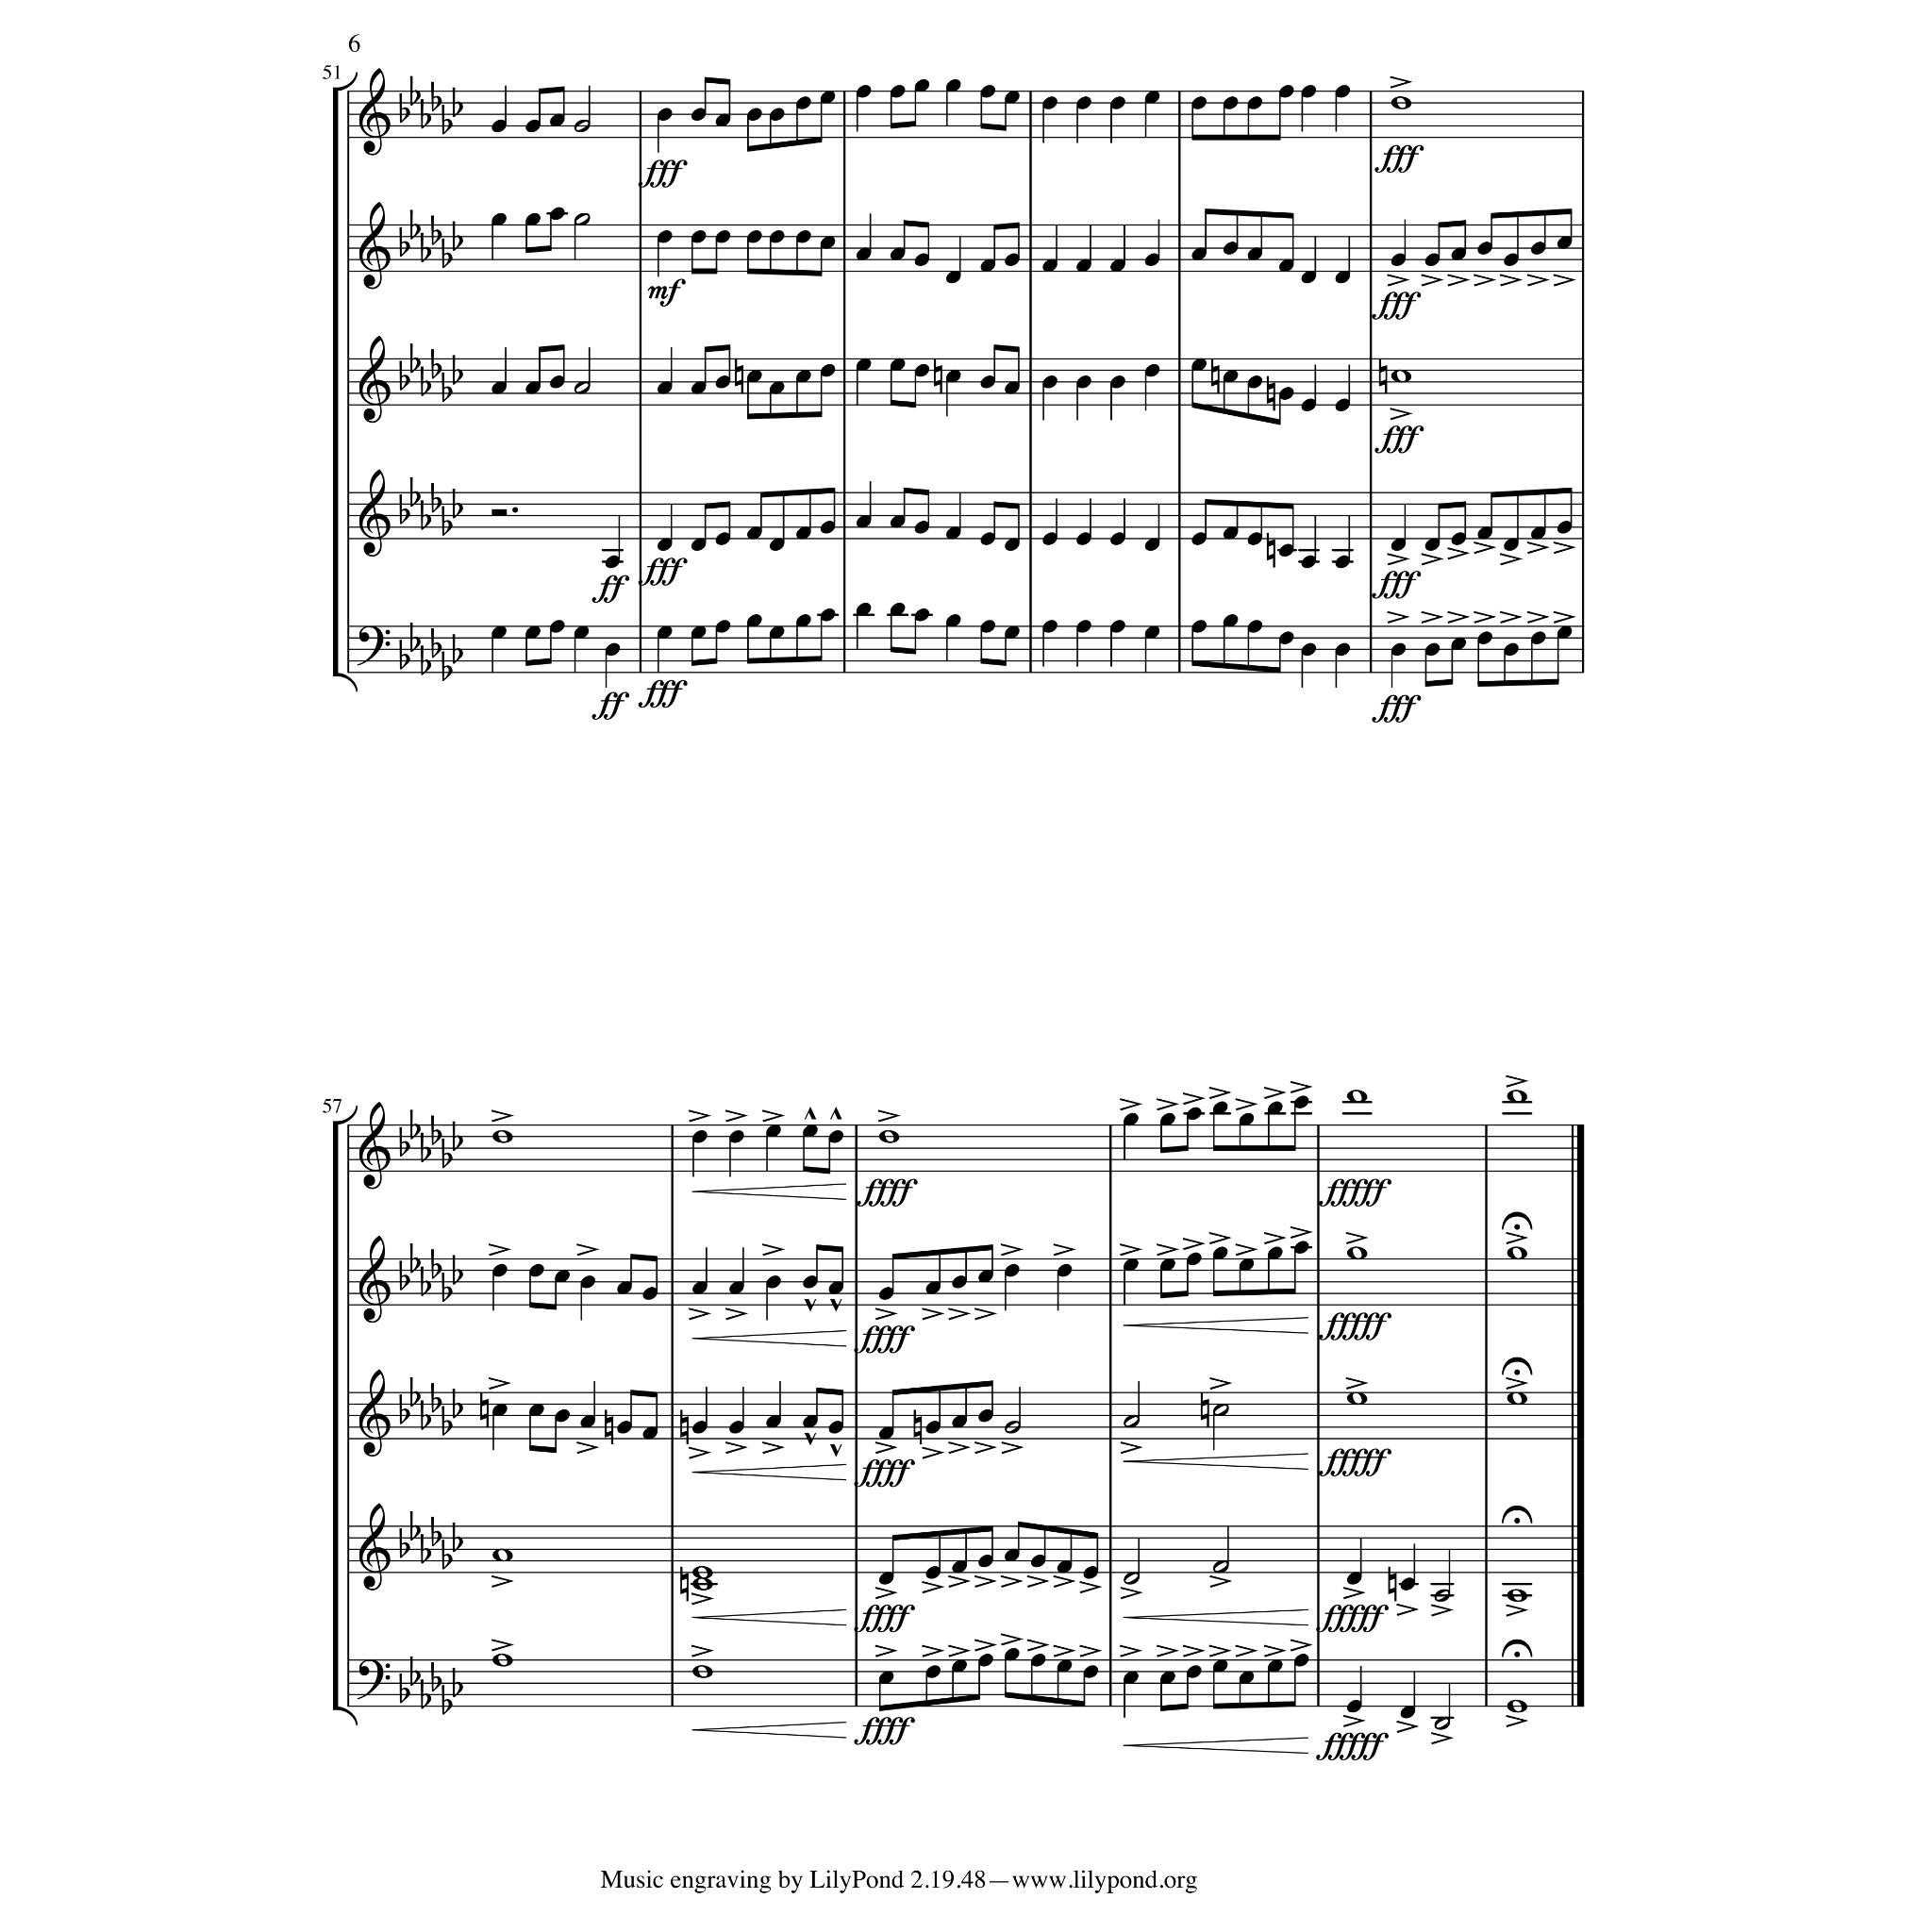fClef: (357, 626, 391, 667), (357, 1660, 391, 1700)
gClef: (359, 67, 391, 157), (359, 1502, 391, 1592), (359, 469, 391, 557), (359, 334, 391, 423), (359, 202, 391, 290), (359, 1100, 391, 1189), (359, 1235, 391, 1323), (359, 1369, 391, 1458)
noteheadBlack: (745, 614, 763, 628), (745, 527, 763, 541), (745, 230, 763, 244), (745, 108, 763, 122), (616, 1281, 633, 1295), (1223, 614, 1238, 628), (1223, 527, 1238, 541), (1223, 242, 1238, 257), (1300, 556, 1316, 570), (1300, 271, 1316, 285), (1277, 632, 1293, 646), (1247, 375, 1263, 389), (1247, 248, 1263, 262), (1076, 375, 1092, 389), (1042, 375, 1058, 389), (1109, 375, 1125, 389), (1191, 248, 1207, 262), (1145, 538, 1161, 552), (1145, 364, 1161, 379), (1145, 253, 1161, 267), (1145, 90, 1161, 104), (1530, 632, 1546, 646), (1530, 527, 1546, 541), (1530, 242, 1546, 257), (1557, 520, 1573, 534), (1557, 235, 1573, 249), (1504, 253, 1520, 267), (1477, 632, 1493, 646), (1504, 538, 1520, 552), (1391, 253, 1407, 267), (1391, 538, 1407, 552), (1334, 271, 1350, 285), (1334, 556, 1350, 570), (1451, 637, 1467, 651), (1451, 248, 1467, 262), (1477, 527, 1493, 541), (1477, 242, 1493, 257), (1424, 538, 1440, 552), (1424, 253, 1440, 267), (690, 380, 706, 395), (690, 230, 706, 244), (690, 108, 706, 122), (690, 538, 706, 552), (656, 538, 672, 552), (656, 380, 672, 395), (656, 230, 672, 244), (656, 108, 672, 122), (768, 538, 784, 552), (768, 380, 784, 395), (768, 230, 784, 244), (768, 108, 784, 122), (715, 230, 731, 244), (715, 375, 731, 389), (492, 380, 508, 395), (525, 380, 541, 395), (605, 556, 621, 570), (550, 375, 566, 389), (550, 207, 566, 221), (913, 520, 929, 534), (913, 364, 929, 379), (913, 253, 929, 267), (913, 80, 929, 94), (1005, 538, 1021, 552), (1005, 380, 1021, 395), (890, 602, 906, 616), (890, 515, 906, 529), (890, 248, 906, 262), (980, 375, 996, 389), (947, 614, 962, 628), (947, 527, 962, 541), (947, 271, 962, 285), (947, 80, 962, 94), (1005, 90, 1021, 104), (1005, 253, 1021, 267), (819, 520, 835, 534), (819, 364, 835, 379), (819, 235, 835, 249), (819, 90, 835, 104), (796, 614, 812, 628), (796, 527, 812, 541), (796, 230, 812, 244), (855, 602, 870, 616), (855, 515, 870, 529), (855, 248, 870, 262), (1185, 1253, 1201, 1267), (1185, 1665, 1201, 1679), (1212, 1100, 1228, 1115), (1212, 1246, 1228, 1260), (1267, 1100, 1283, 1115), (1267, 1246, 1283, 1260), (1030, 1652, 1046, 1667), (1238, 1113, 1254, 1127), (1238, 1258, 1254, 1272), (1238, 1670, 1254, 1684), (1083, 1566, 1099, 1580), (1083, 1665, 1099, 1679), (1122, 1113, 1138, 1127), (1122, 1258, 1138, 1272), (1122, 1670, 1138, 1684), (1056, 1263, 1072, 1277), (1159, 1670, 1175, 1684), (1159, 1113, 1175, 1127), (1159, 1258, 1175, 1272), (1346, 1571, 1362, 1585), (1293, 1095, 1309, 1109), (1293, 1652, 1309, 1667), (642, 1286, 658, 1300), (642, 1426, 658, 1440), (692, 1131, 708, 1145), (692, 1281, 708, 1295), (729, 1131, 745, 1145), (729, 1281, 745, 1295), (492, 1263, 508, 1277), (492, 1403, 508, 1417), (529, 1263, 545, 1277), (529, 1403, 545, 1417), (925, 1281, 941, 1295), (925, 1566, 941, 1580), (925, 1665, 941, 1679), (1005, 1263, 1021, 1277), (1005, 1548, 1021, 1562), (978, 1652, 994, 1667), (878, 1286, 893, 1300), (878, 1426, 893, 1440), (878, 1571, 893, 1585), (878, 1670, 893, 1684), (828, 1131, 844, 1145), (828, 1281, 844, 1295), (745, 370, 763, 382), (801, 1125, 819, 1138), (616, 1421, 633, 1433), (801, 1276, 819, 1288), (801, 1415, 819, 1428), (1223, 370, 1238, 382), (1223, 97, 1238, 110), (1042, 97, 1058, 110), (1300, 644, 1316, 656), (1300, 400, 1316, 412), (1300, 85, 1316, 97), (1277, 387, 1293, 400), (1277, 260, 1293, 272), (1277, 85, 1293, 97), (1277, 545, 1293, 557), (1247, 621, 1263, 633), (1247, 533, 1263, 545), (1247, 97, 1263, 110), (1076, 621, 1092, 633), (1076, 533, 1092, 545), (1076, 260, 1092, 272), (1076, 97, 1092, 110), (1109, 260, 1125, 272), (1109, 97, 1125, 110), (1042, 621, 1058, 633), (1042, 533, 1058, 545), (1042, 260, 1058, 272), (1191, 621, 1207, 633), (1191, 533, 1207, 545), (1191, 359, 1207, 372), (1191, 97, 1207, 110), (1109, 621, 1125, 633), (1109, 533, 1125, 545), (1145, 626, 1161, 639), (1557, 626, 1573, 639), (1504, 644, 1520, 656), (1391, 644, 1407, 656), (1334, 85, 1350, 97), (1334, 644, 1350, 656), (1334, 400, 1350, 412), (1451, 533, 1467, 545), (1424, 644, 1440, 656), (690, 626, 706, 639), (656, 626, 672, 639), (768, 626, 784, 639), (715, 621, 731, 633), (715, 533, 731, 545), (715, 115, 731, 127), (492, 626, 508, 639), (492, 214, 508, 226), (492, 120, 508, 133), (525, 626, 541, 639), (525, 214, 541, 226), (525, 120, 541, 133), (573, 626, 589, 639), (605, 644, 621, 656), (550, 621, 566, 633), (550, 115, 566, 127), (913, 609, 929, 621), (1005, 626, 1021, 639), (890, 359, 906, 372), (890, 85, 906, 97), (980, 85, 996, 97), (980, 621, 996, 633), (980, 533, 996, 545), (980, 260, 996, 272), (947, 370, 962, 382), (819, 609, 835, 621), (796, 370, 812, 382), (796, 97, 812, 110), (855, 359, 870, 372), (855, 85, 870, 97), (1212, 1660, 1228, 1672), (1185, 1108, 1201, 1120), (1267, 1660, 1283, 1672), (1056, 1560, 1072, 1573), (1056, 1660, 1072, 1672), (1346, 1700, 1362, 1713), (1293, 1242, 1309, 1254), (1399, 1578, 1415, 1591), (1399, 1706, 1415, 1718), (692, 1421, 708, 1433), (766, 1415, 782, 1428), (766, 1125, 782, 1138), (766, 1276, 782, 1288), (729, 1421, 745, 1433), (580, 1415, 596, 1428), (554, 1270, 570, 1283), (554, 1410, 570, 1422), (580, 1276, 596, 1288), (952, 1276, 968, 1288), (952, 1415, 968, 1428), (952, 1560, 968, 1573), (952, 1660, 968, 1672), (925, 1421, 941, 1433), (1005, 1649, 1021, 1661), (1030, 1555, 1046, 1568), (978, 1270, 994, 1283), (978, 1410, 994, 1422), (978, 1555, 994, 1568), (828, 1421, 844, 1433)
noteheadHalf: (573, 380, 591, 395), (1212, 1403, 1230, 1417), (1433, 1589, 1451, 1603), (1433, 1716, 1451, 1730), (1123, 1571, 1139, 1585), (573, 214, 591, 226), (573, 120, 591, 133), (1212, 1560, 1230, 1573), (1003, 1421, 1021, 1433), (1123, 1415, 1139, 1428)
noteheadWhole: (1506, 1700, 1529, 1714), (1506, 1589, 1529, 1603), (1506, 1090, 1529, 1104), (1506, 1246, 1529, 1260), (1391, 96, 1412, 110), (1346, 1090, 1368, 1104), (1346, 1246, 1368, 1260), (692, 1665, 713, 1679), (692, 1566, 713, 1580), (692, 1576, 713, 1591), (492, 1131, 513, 1145), (492, 1548, 513, 1562), (492, 1652, 513, 1667), (878, 1131, 899, 1145), (1506, 1392, 1529, 1405), (1391, 370, 1412, 382), (1346, 1392, 1368, 1405)
restHalf: (492, 510, 508, 517)
